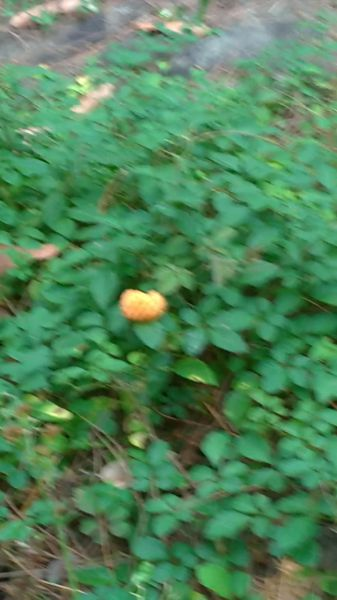eggs: (116, 280, 171, 322)
